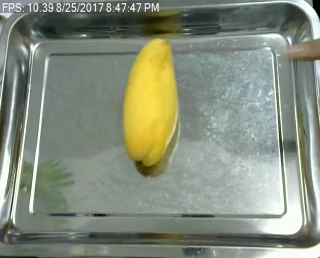Mango: (117, 37, 187, 172)
